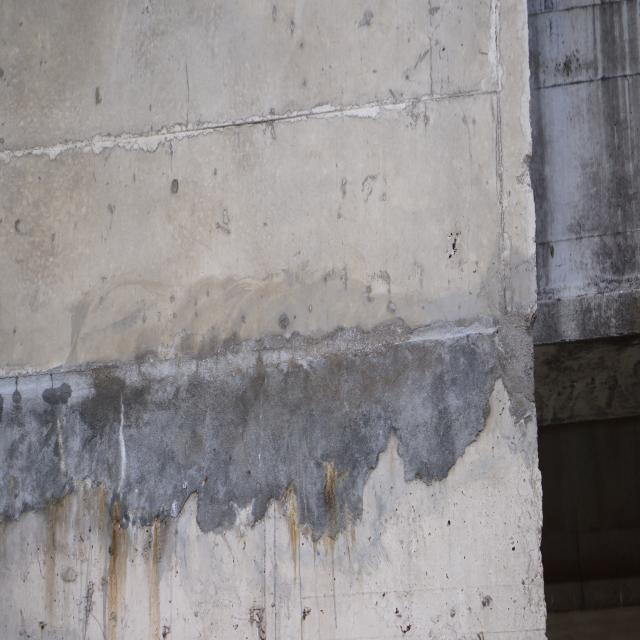corrosion: (33, 456, 380, 640)
